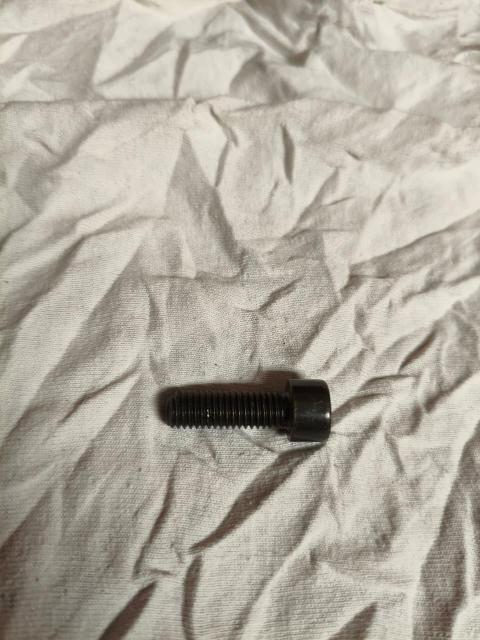Metal: (153, 375, 335, 448)
